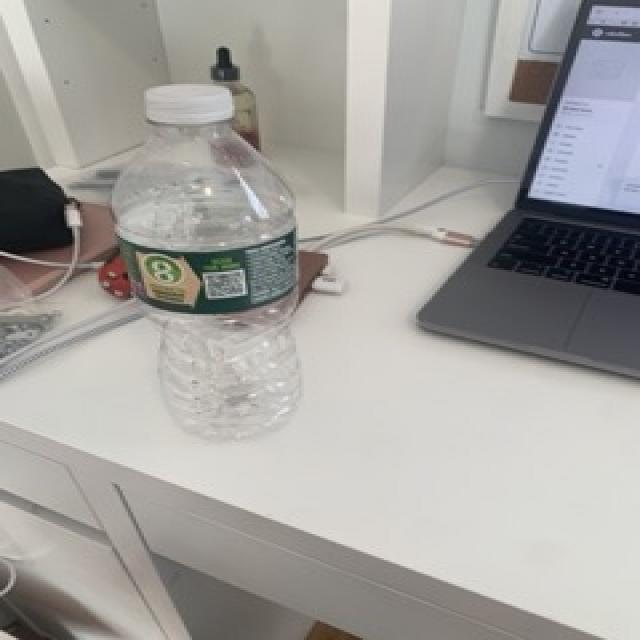water_bottle: (106, 84, 312, 442)
